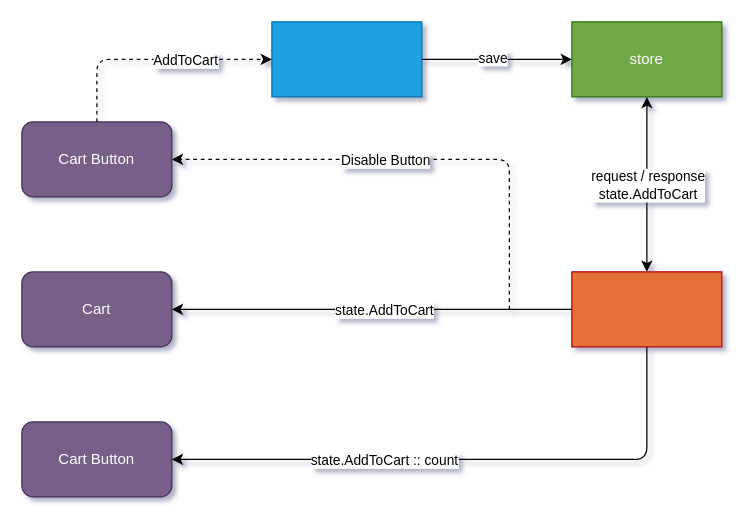
This 751x526 diagram has some shape labels left out. The centre of each missing label's shape, as x and y in pixels:
Dispatch: (346,59)
Selector: (646,309)
